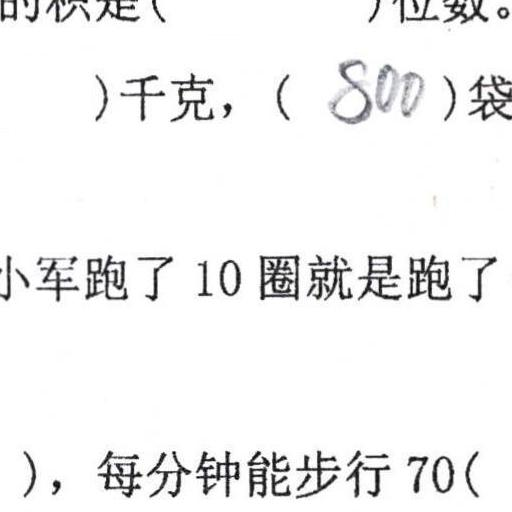ans: (324, 49, 424, 126)
